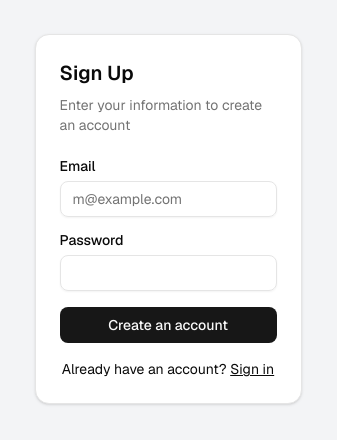
Scenario: Register Page (Use Case 1) › should show an error if the email is already in use (TC-REG-02)
Type "test1@gmail.com" into the field labelled "Email". click: (168, 199)
box: [60,181,276,217]
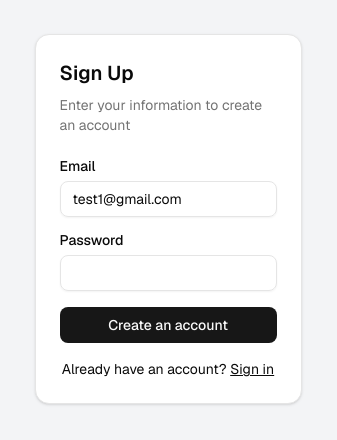
Type "password123" into the password field labelled "Password". click: (168, 273)
box: [60,255,276,291]
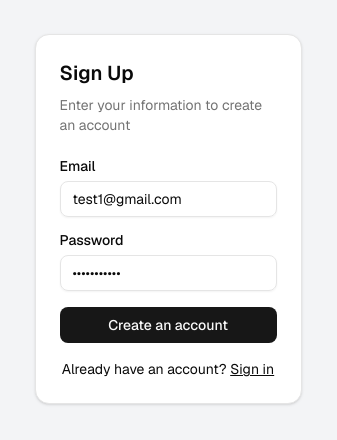
# Test Step: Submit the form
Submit the form "Email Password Create an account", box [60,159,276,343]
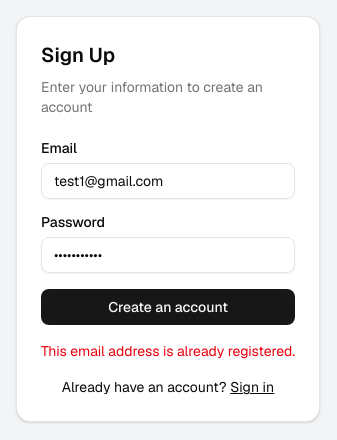
Expected: the text "This email address is already registered." is shown, [41,341,295,361]
